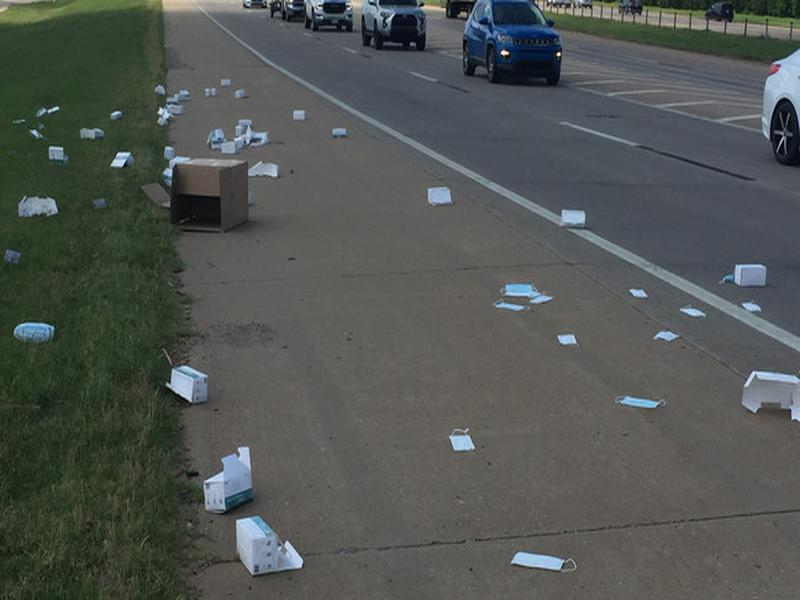cardboard: (167, 155, 250, 233), (231, 516, 307, 578), (199, 444, 260, 515), (740, 367, 799, 424), (166, 365, 215, 405), (730, 260, 774, 291), (557, 204, 593, 229), (423, 184, 459, 206)
mask: (505, 548, 579, 574), (607, 391, 668, 414), (445, 427, 481, 455)
